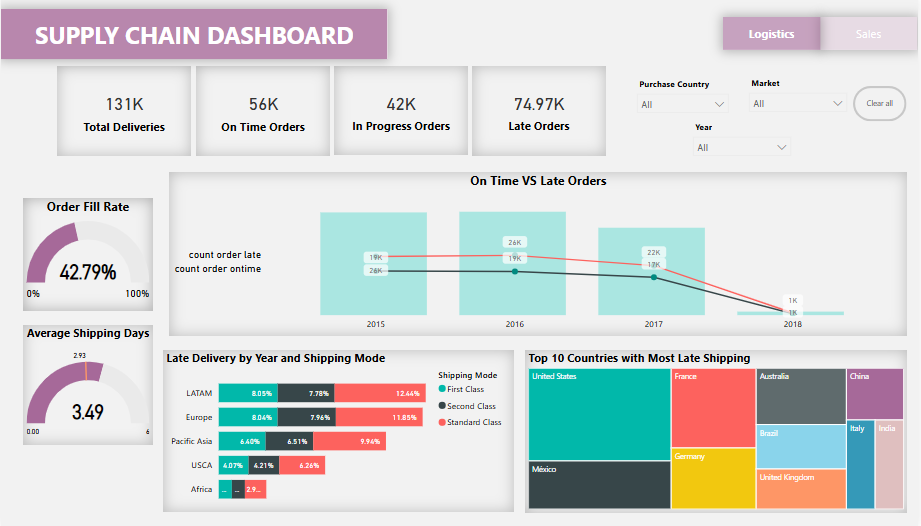

What the dashboard file says about the page in this screenshot:
{"tool":"powerbi","page":{"name":"logistics","canvas":[1300,750],"ordinal":0},"visuals":[{"type":"actionButton","title":"Logistics","box":[1024,27.6,137.9,46.6],"z":0,"group":"g3"},{"type":"actionButton","title":"Logistics","box":[1024.1,27.6,137.9,46.6],"z":0,"group":"g2"},{"type":"gauge","title":"Order Fill Rate","fields":{"Y":["Measure.order_fill_rate"]},"box":[31.7,284.1,184.1,160.4],"z":0,"group":"g5"},{"type":"card","fields":{"Values":["Measure.Blank_charts"]},"box":[809.3,550,390.7,144.4],"z":0},{"type":"actionButton","title":"Sales","box":[1162,27.6,137.9,46.6],"z":1000,"group":"g2"},{"type":"gauge","title":"Average Shipping Days","fields":{"Y":["Measure.avg_order_shipping_real"],"TargetValue":["Measure.avg_order_shipping_schedule"],"MaxValue":["Measure.max_days_ship"]},"box":[31.7,464.5,184.1,170.4],"z":1000,"group":"g5"},{"type":"card","fields":{"Values":["Measure.Blank_charts"]},"box":[268.5,550,390.7,144.4],"z":1000},{"type":"shape","title":"Title","box":[0,15.9,547.6,71.4],"z":2000},{"type":"group","id":"g1","title":"Active button","box":[988,16,156,48],"z":3000},{"type":"card","title":"On time","fields":{"Values":["Measure.count_order_ontime"]},"box":[277,97,190.3,127.8],"z":3000,"group":"g4"},{"type":"group","id":"g2","title":"inactive","box":[1024.1,27.6,275.9,46.6],"z":4000},{"type":"group","id":"g3","title":"active","box":[1024,27.6,275.9,46.6],"z":5000},{"type":"card","title":"pending","fields":{"Values":["Measure.count_pending"]},"box":[473,97,190.3,126.4],"z":5000,"group":"g4"},{"type":"card","title":"late","fields":{"Values":["Measure.count_order_late"]},"box":[668.8,97,190,127],"z":6000,"group":"g4"},{"type":"slicer","fields":{"Values":["DATE_TABLE.Year"]},"box":[971.4,168.6,158.6,78.6],"z":6000},{"type":"card","title":"total","fields":{"Values":["Measure.count_total_order"]},"box":[79.9,97,190.3,127.8],"z":6500,"group":"g4"},{"type":"slicer","fields":{"Values":["DataCo_edited3.Market"]},"box":[1050,106.9,158.6,86.2],"z":7000},{"type":"group","id":"g4","title":"Group 1","box":[79.9,97,778.9,127.8],"z":8000},{"type":"group","id":"g5","title":"Gauge","box":[31.7,284.1,184.1,350.8],"z":9000},{"type":"lineClusteredColumnComboChart","title":"On Time VS Late Orders","fields":{"Category":["DATE_TABLE.Year","DATE_TABLE.Month_text","DATE_TABLE.Day"],"Y2":["Measure.count_order_ontime","Measure.count_order_late"],"Y":["Measure.count_total_order"]},"box":[237.5,247.2,1047.2,233.3],"z":10000},{"type":"barChart","title":"Late Delivery by Year and Shipping Mode","fields":{"Category":["DataCo_edited3.Market","DataCo_edited3.Order Country"],"Series":["DataCo_edited3.Shipping Mode"],"Y":["Divide(Measure.count_order_late, ScopedEval(Measure.count_order_late, []))"]},"box":[230.2,498.4,498.4,230.2],"z":11000},{"type":"treemap","title":"Top 10 Countries with Most Late Shipping","fields":{"Group":["DataCo_edited3.Order Country"],"Values":["Measure.count_order_late"]},"box":[743.1,498.6,541.7,230.6],"z":12000},{"type":"actionButton","box":[1208.6,124.1,75.9,50],"z":13000},{"type":"slicer","fields":{"Values":["DataCo_edited3.purchase country"]},"box":[891.4,107.1,150,61.4],"z":14000}]}

Visuals, with their boxes in screenshot pixels (x1, y1, x2, y2), scaled from the page's 1300x750 canvas onto the 921x526 screenshot:
"Logistics" actionButton: [725, 19, 823, 52]
"Logistics" actionButton: [726, 19, 823, 52]
"Order Fill Rate" gauge: [22, 199, 153, 312]
card - Measure.Blank_charts: [573, 386, 850, 487]
"Sales" actionButton: [823, 19, 920, 52]
"Average Shipping Days" gauge: [22, 326, 153, 445]
card - Measure.Blank_charts: [190, 386, 467, 487]
"Title" shape: [0, 11, 388, 61]
"Active button" group: [700, 11, 810, 45]
"On time" card: [196, 68, 331, 158]
"inactive" group: [726, 19, 920, 52]
"active" group: [725, 19, 920, 52]
"pending" card: [335, 68, 470, 157]
"late" card: [474, 68, 608, 157]
slicer - DATE_TABLE.Year: [688, 118, 801, 173]
"total" card: [57, 68, 191, 158]
slicer - DataCo_edited3.Market: [744, 75, 856, 135]
"Group 1" group: [57, 68, 608, 158]
"Gauge" group: [22, 199, 153, 445]
"On Time VS Late Orders" lineClusteredColumnComboChart: [168, 173, 910, 337]
"Late Delivery by Year and Shipping Mode" barChart: [163, 350, 516, 511]
"Top 10 Countries with Most Late Shipping" treemap: [526, 350, 910, 511]
actionButton: [856, 87, 910, 122]
slicer - DataCo_edited3.purchase country: [632, 75, 738, 118]
